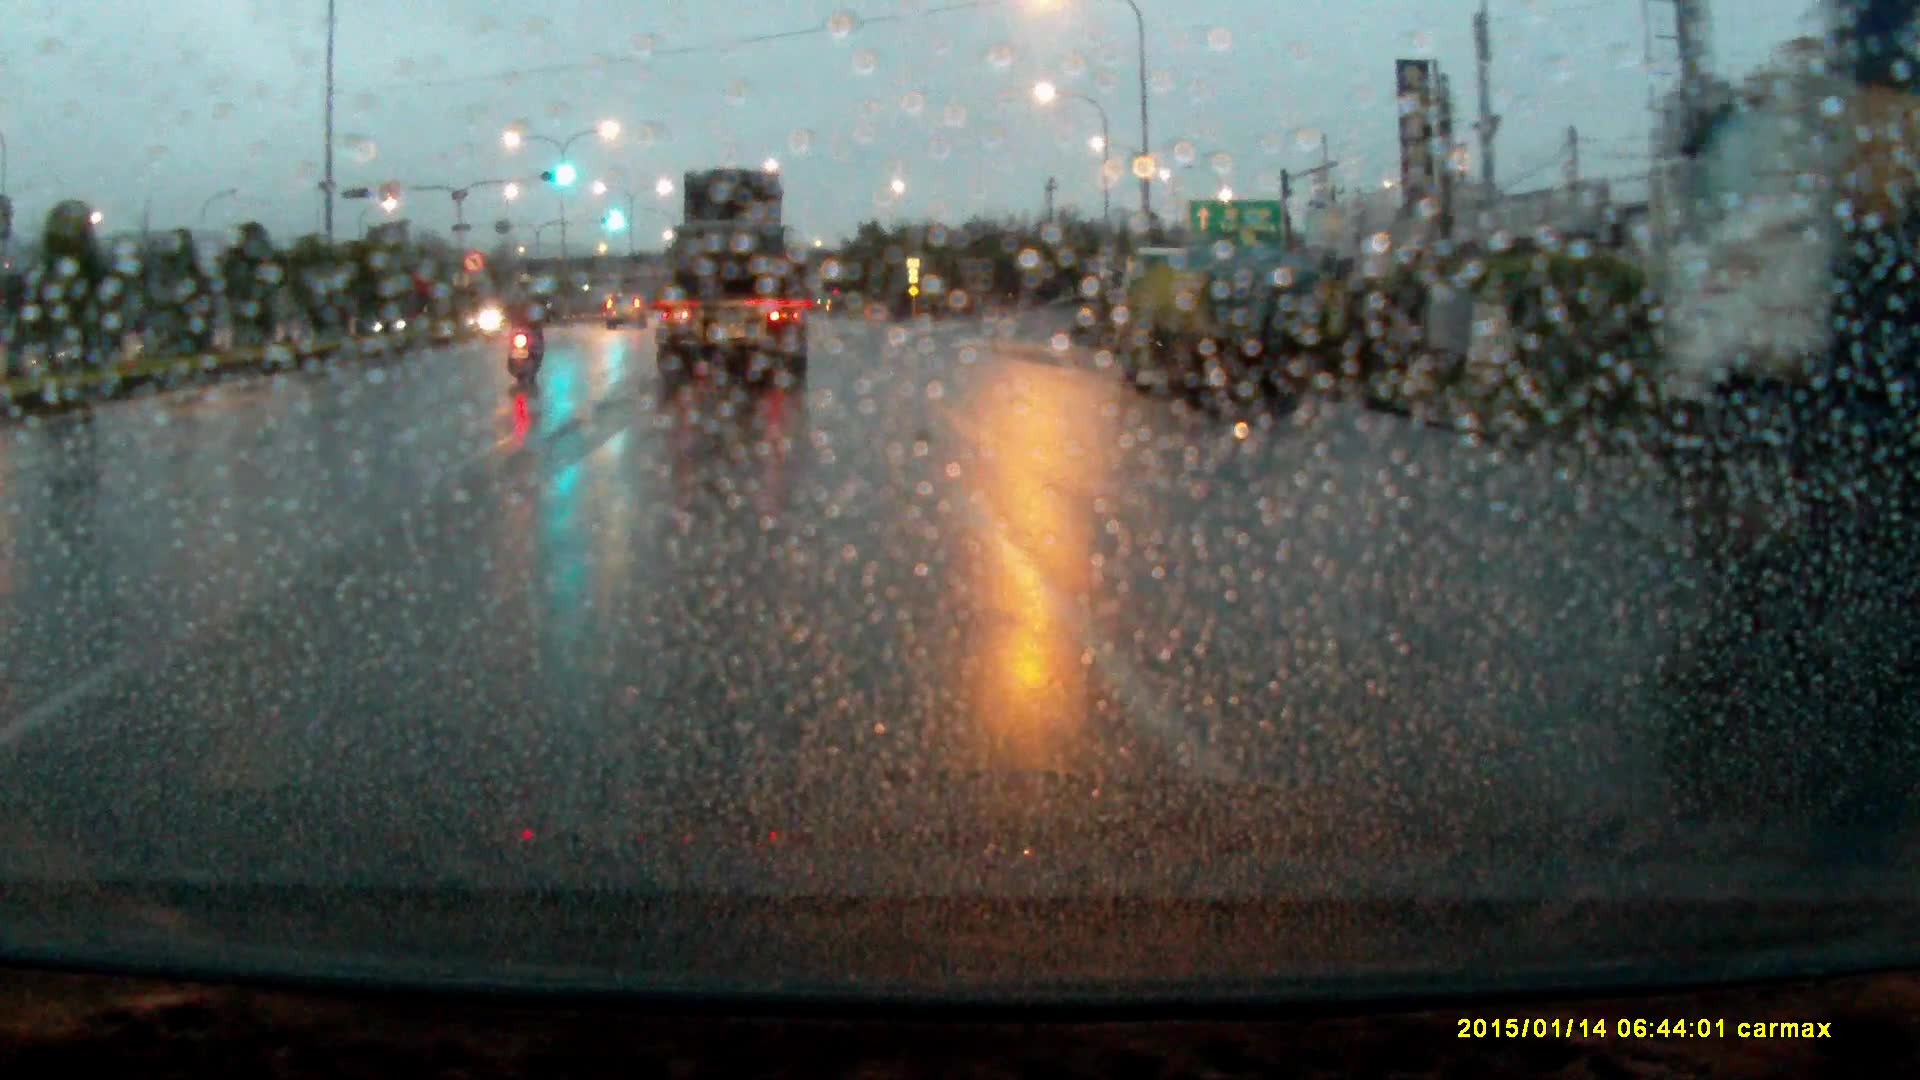rider: (503, 272, 554, 386)
vehicle: (1663, 6, 1920, 578), (1104, 247, 1335, 413), (652, 168, 813, 396), (605, 294, 646, 332)
